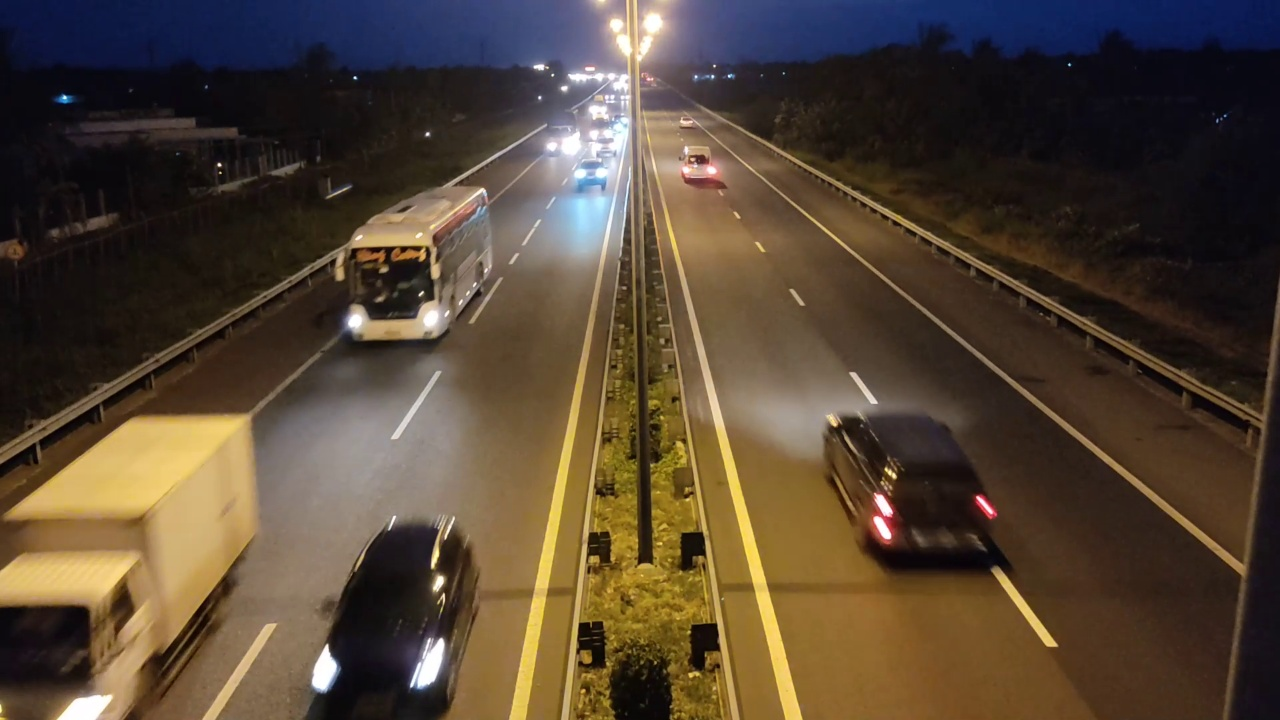bus: (343, 184, 494, 343)
car: (306, 513, 482, 718), (821, 407, 1001, 568), (572, 159, 609, 193)
truck: (1, 413, 262, 715)
